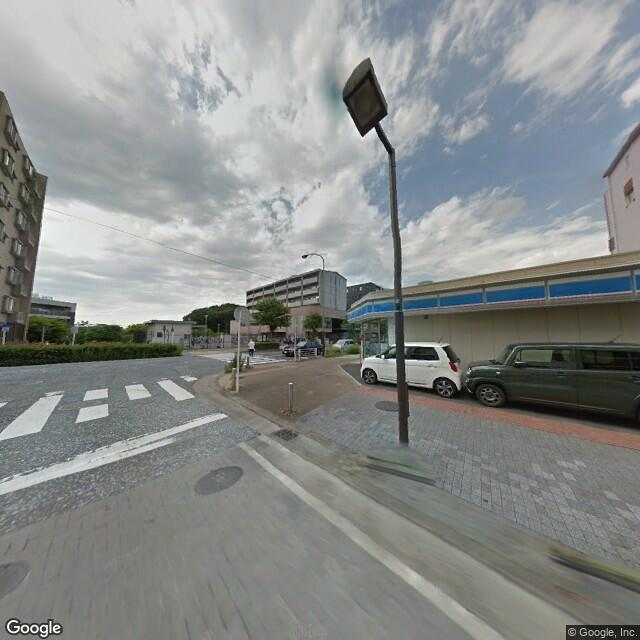lawson: (344, 262, 639, 330)
